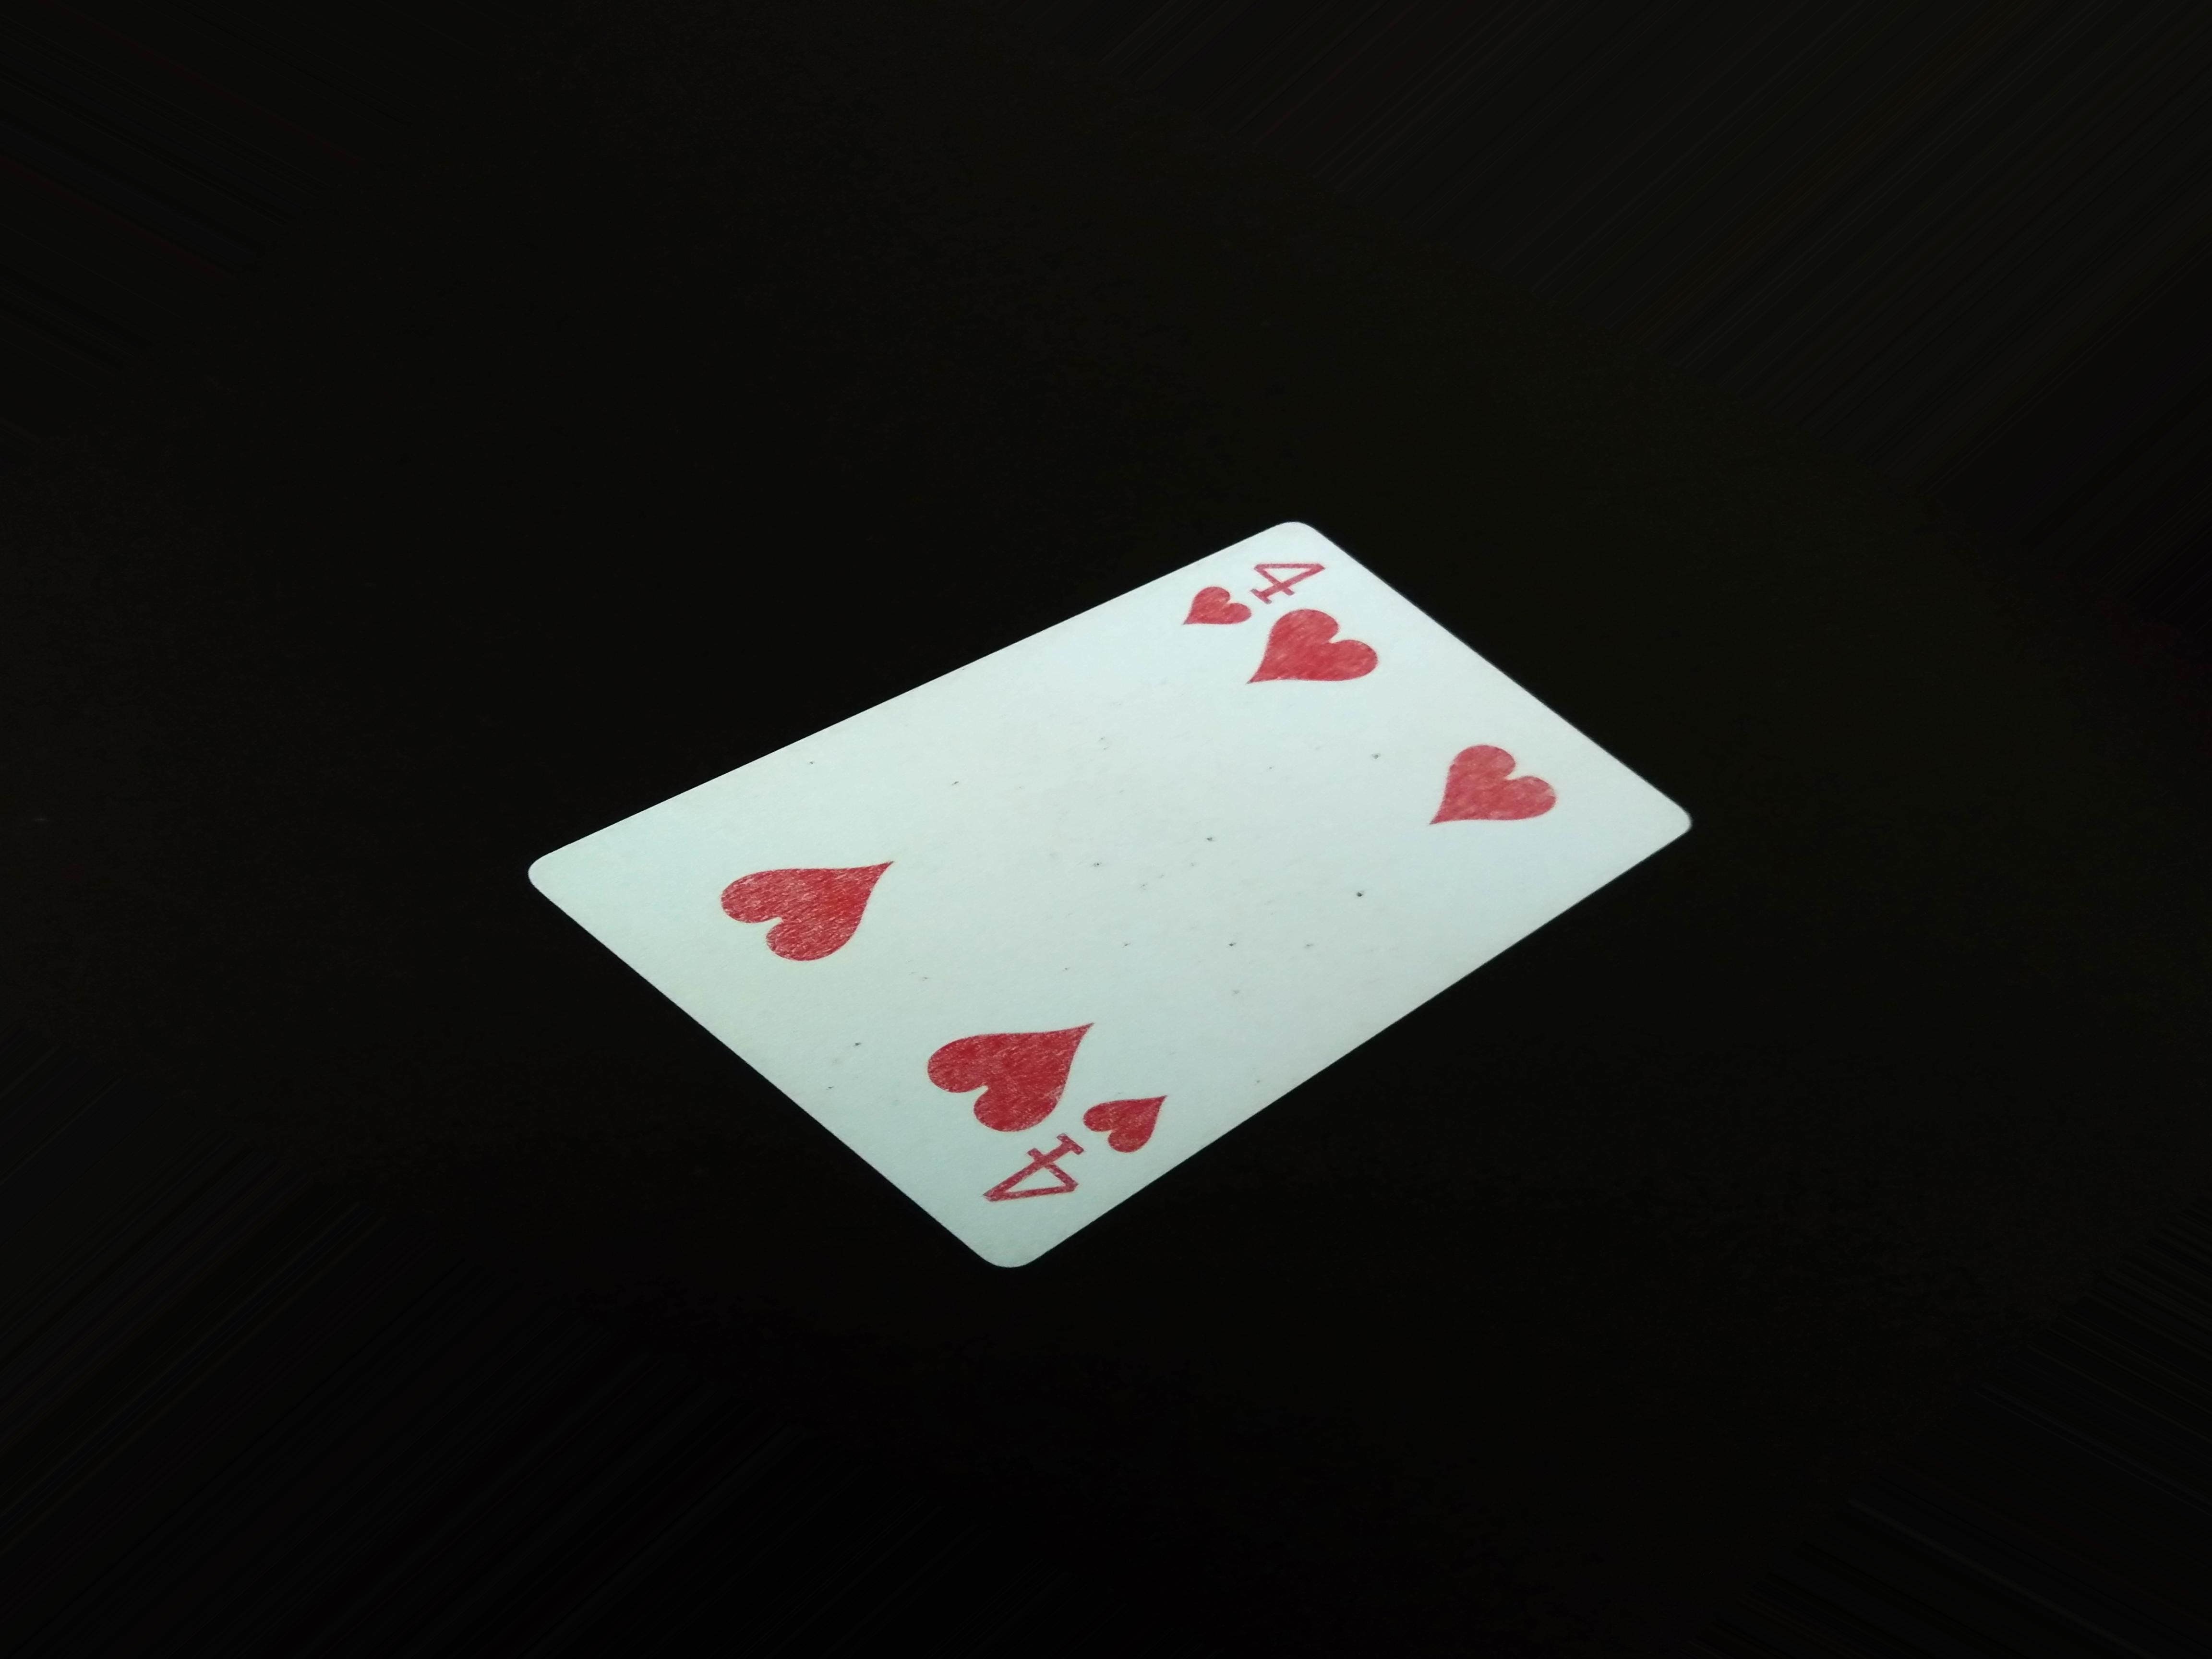4H: (1160, 542, 1329, 643)
